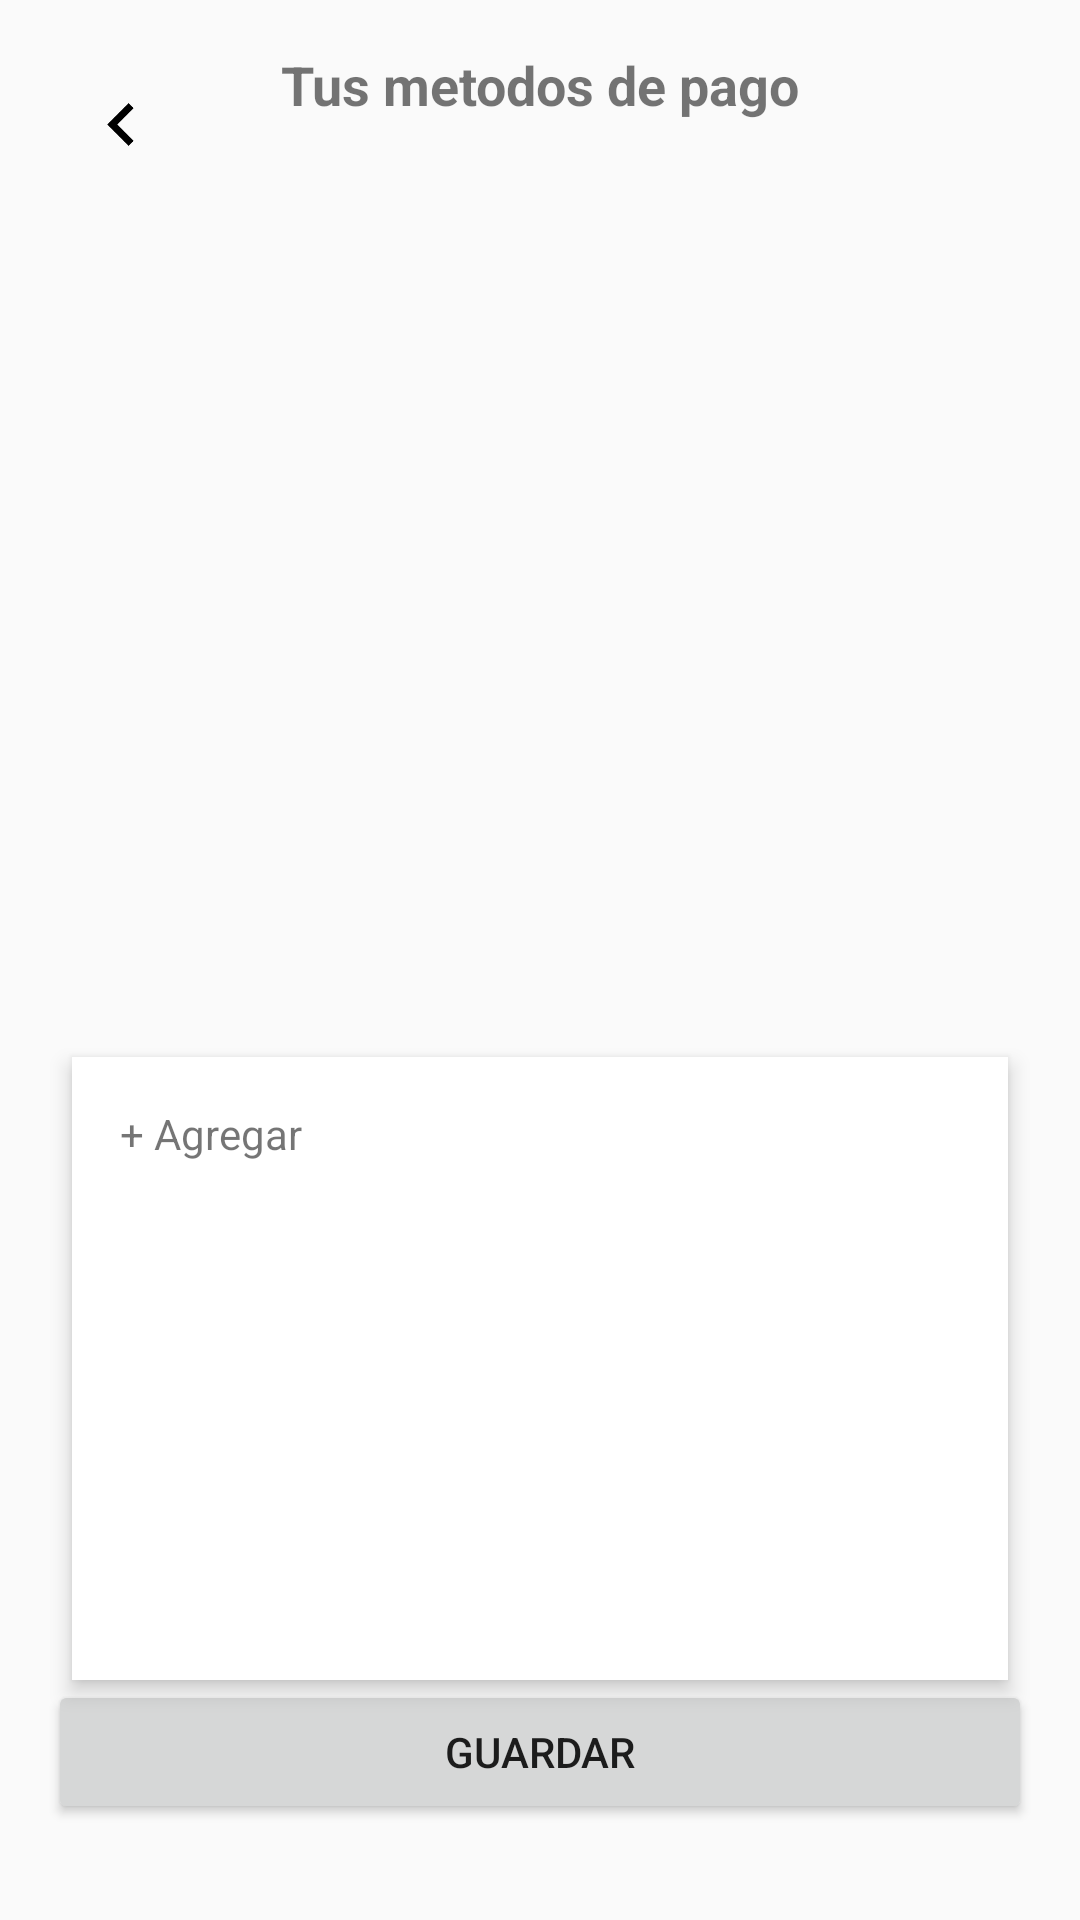

Screen size 1080px×1920px. Icon name, then its center in pixels as [x,y]:
leftkey: [120,124]
